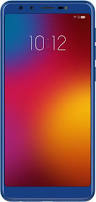lenovo: (1, 1, 96, 202)
